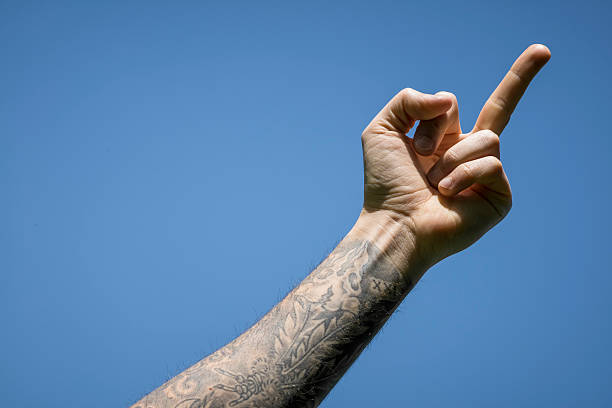insulting_gesture: (359, 40, 551, 243)
